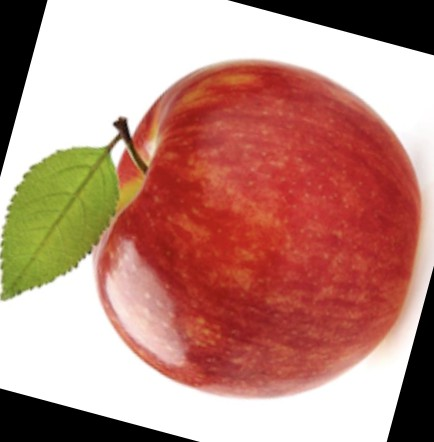fresh_apple: (92, 59, 423, 397)
